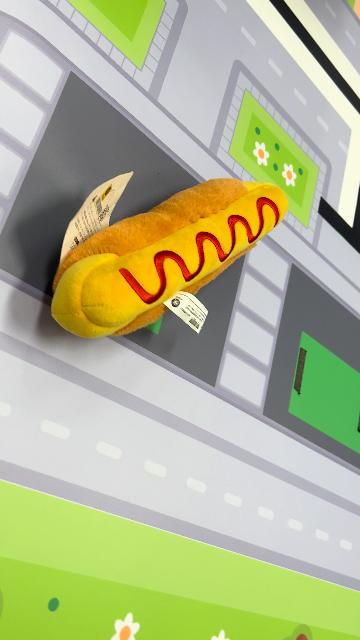hotdog: (50, 176, 290, 342)
